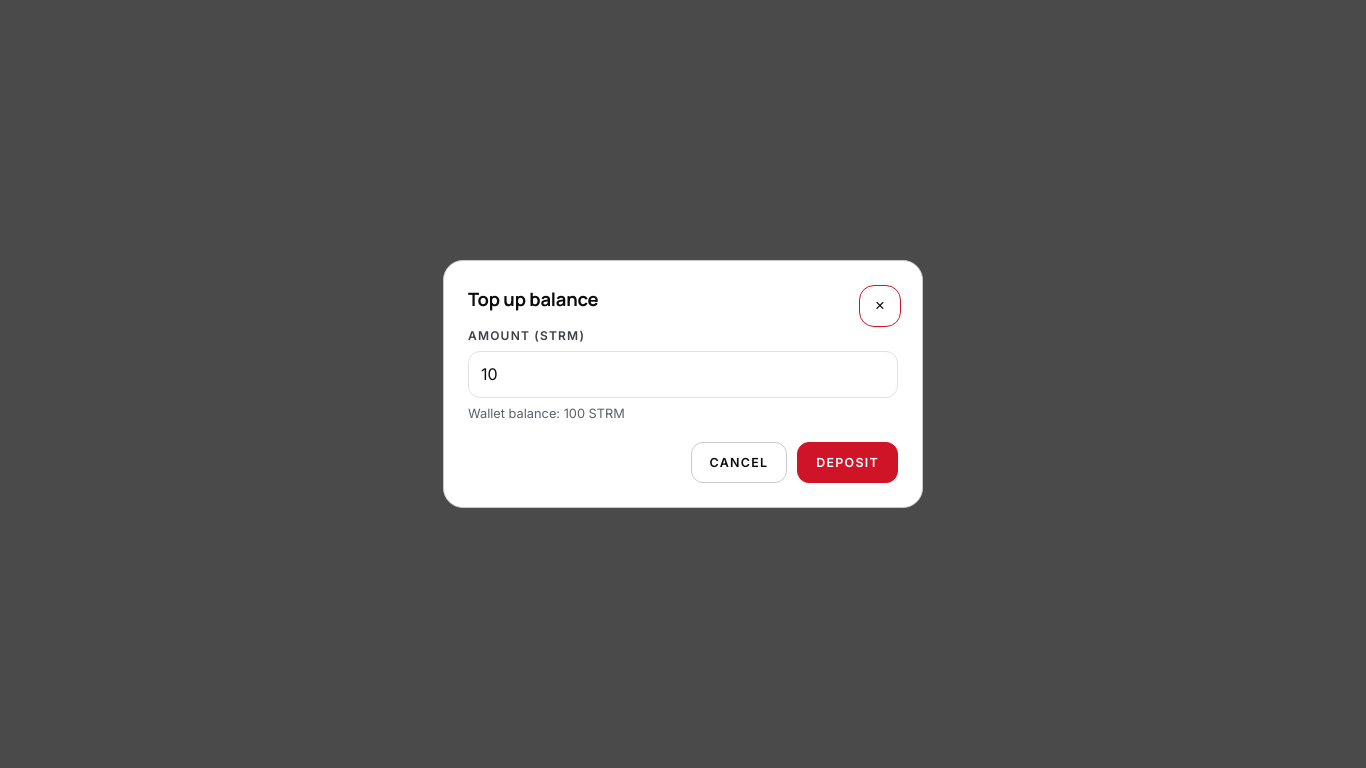
Test: top-up flow › treats a rejection in the wallet as a quiet notice, not an error
Click the button "Deposit" at (848, 463), box [797, 442, 898, 483]
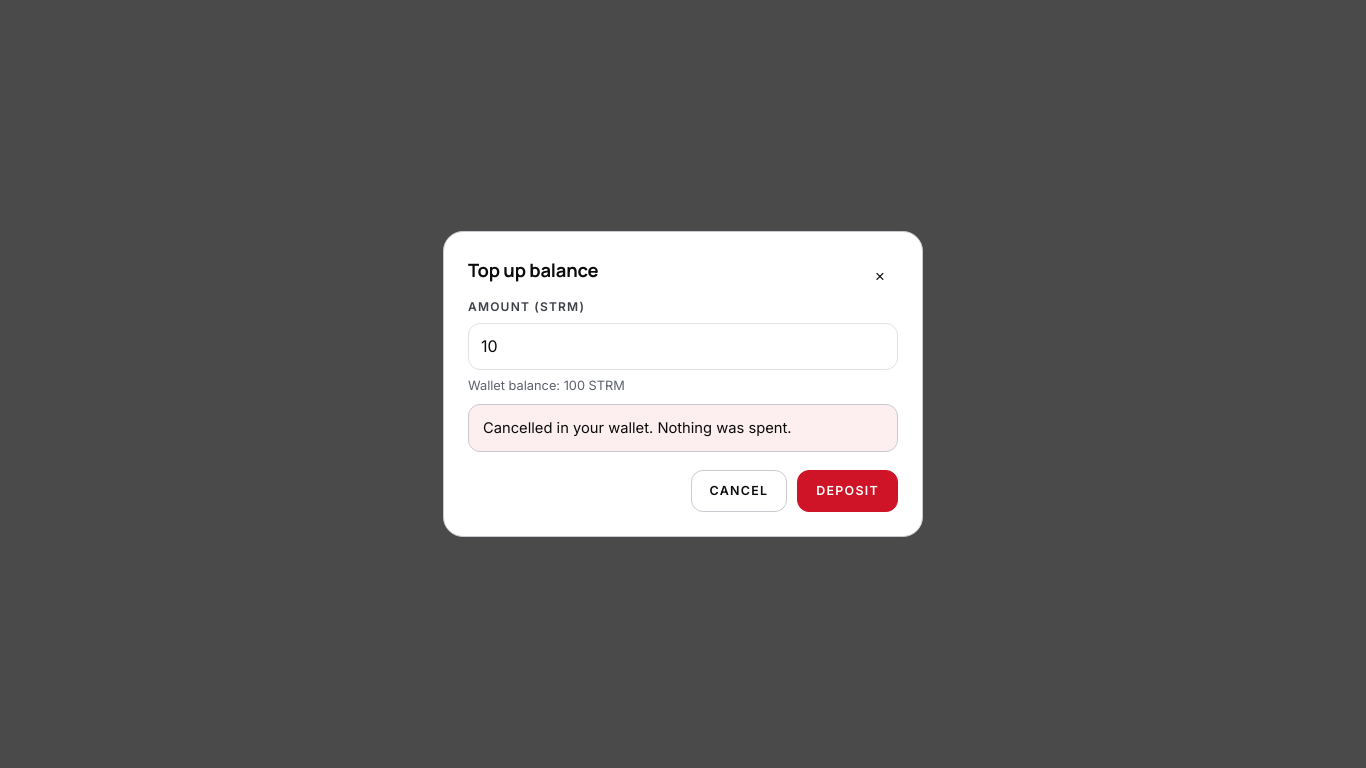
Expected: the button "Deposit" is enabled, [797, 470, 898, 512]
Expected: the text "Cancelled in your wallet. Nothing was spent." is shown, [468, 404, 898, 452]
